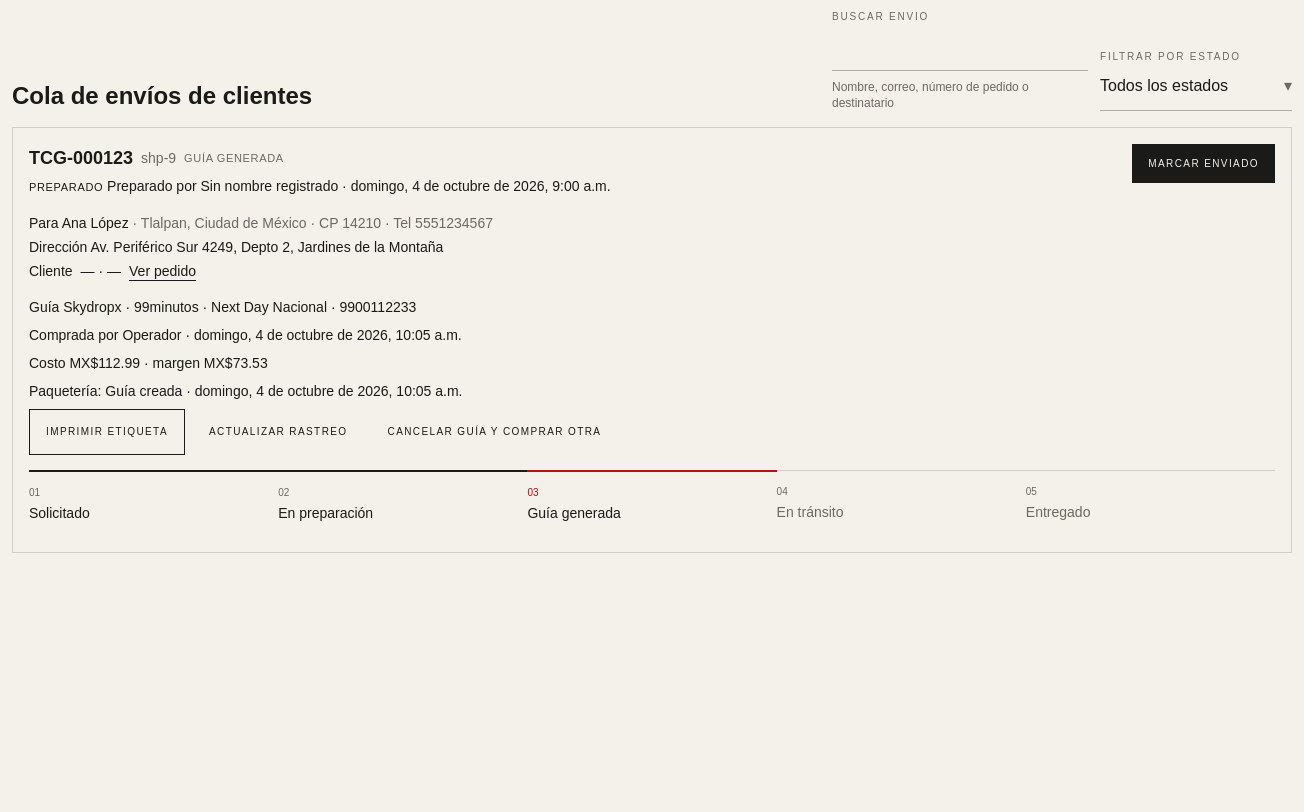
Test case: §43.8b · la fila con guía de Skydropx › «Actualizar rastreo» con 429 ⇒ «Espera un minuto»
The width and height of the screenshot is (1304, 812).
Click the button "Actualizar rastreo".
click(278, 432)  # box [193,409,364,455]
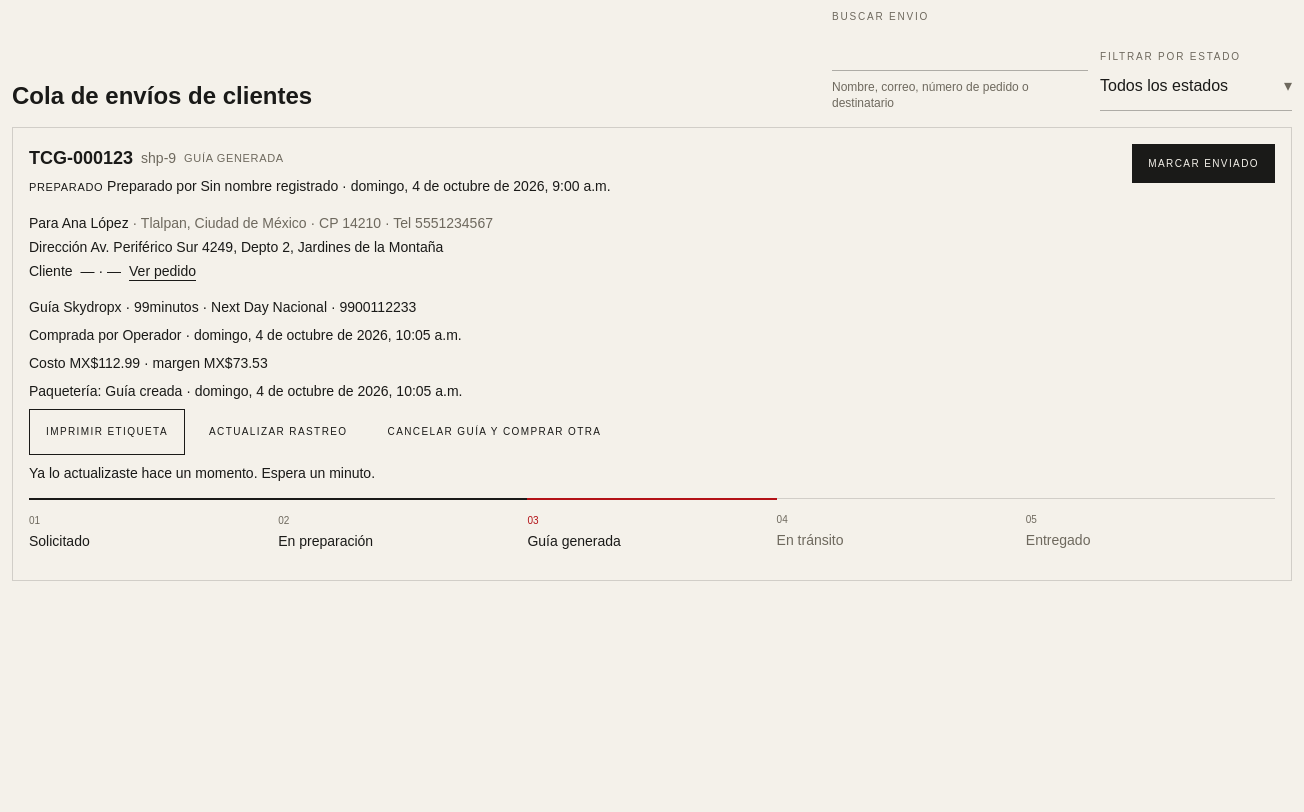
Check: the text "Ya lo actualizaste hace un momento. Espera un minuto." is shown, box [29,465,375,481]
